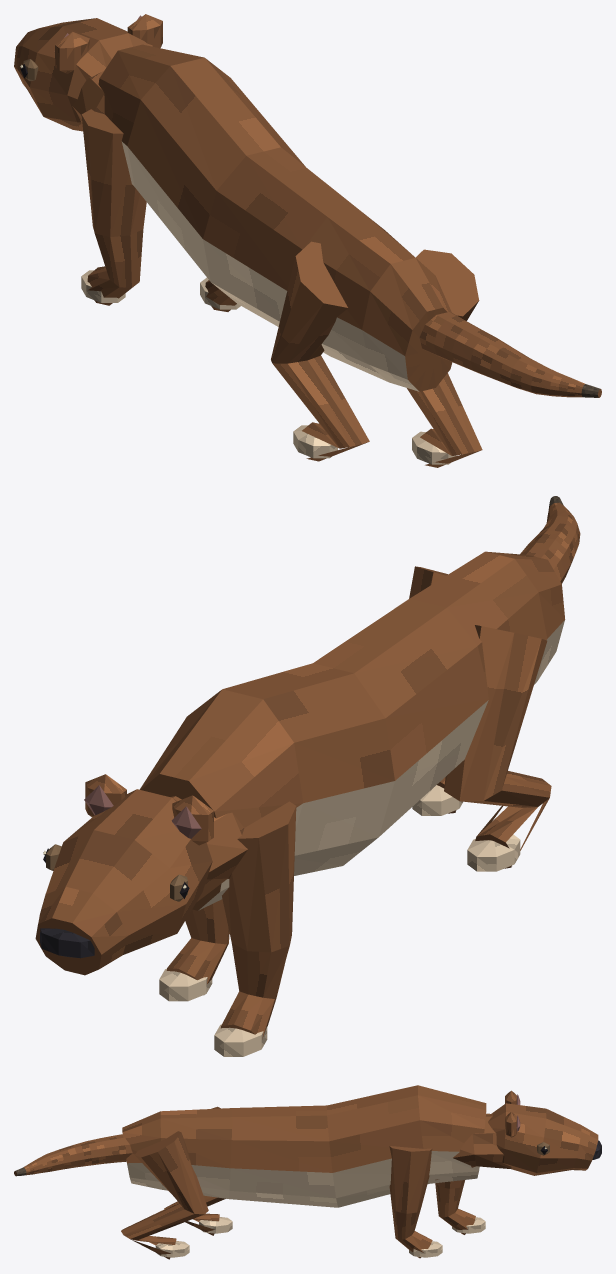
Rendered from mon_weasel.glb.
3 views of the same model, one above another, from view 1: azimuth 30°, elevation 25°; view 2: azimuth 150°, elevation 25°; view 3: azimuth 270°, elevation 25° (orthographic). The views are drawn at different scales.
Parts seen in each view (by area): view 1: closed_body; view 2: closed_body; view 3: closed_body.
Boxes of the visible parts, x1,y1,x2,y2 form: closed_body: [14, 14, 601, 467]; closed_body: [35, 496, 580, 1056]; closed_body: [14, 1085, 601, 1259].
Bounding box in the file's own units: 0.0537 × 0.0919 × 0.3115.
1 material, 1 textured.
